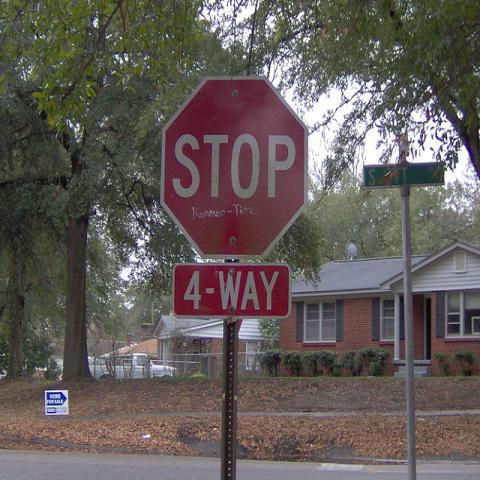truck: (88, 352, 178, 380)
